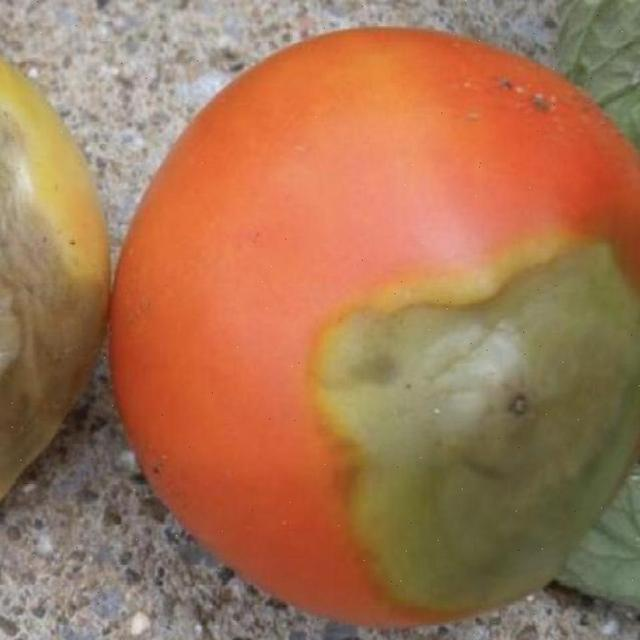Blossom End Rot Fruit: (34, 197, 315, 282)
